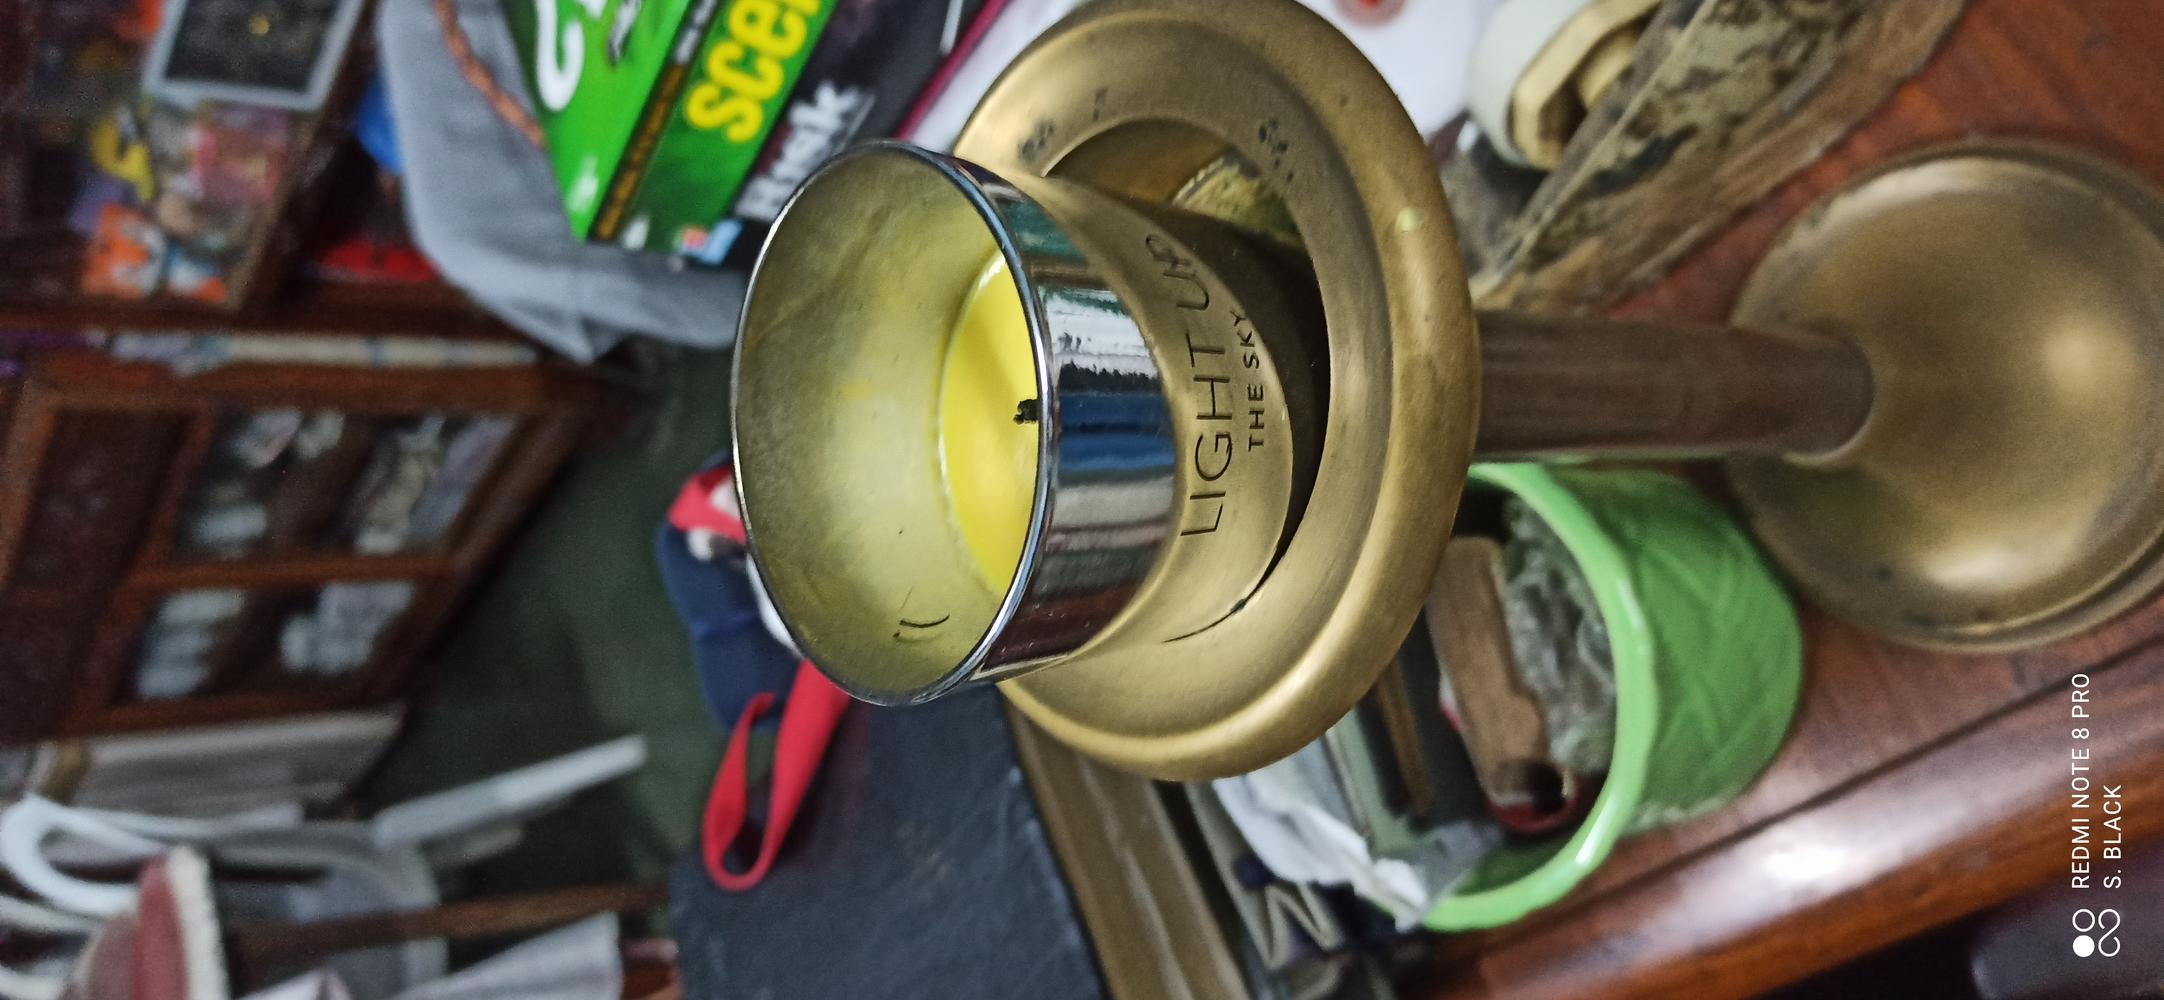Undefined Object: (707, 69, 2164, 703), (26, 19, 668, 724), (30, 730, 762, 1000)
